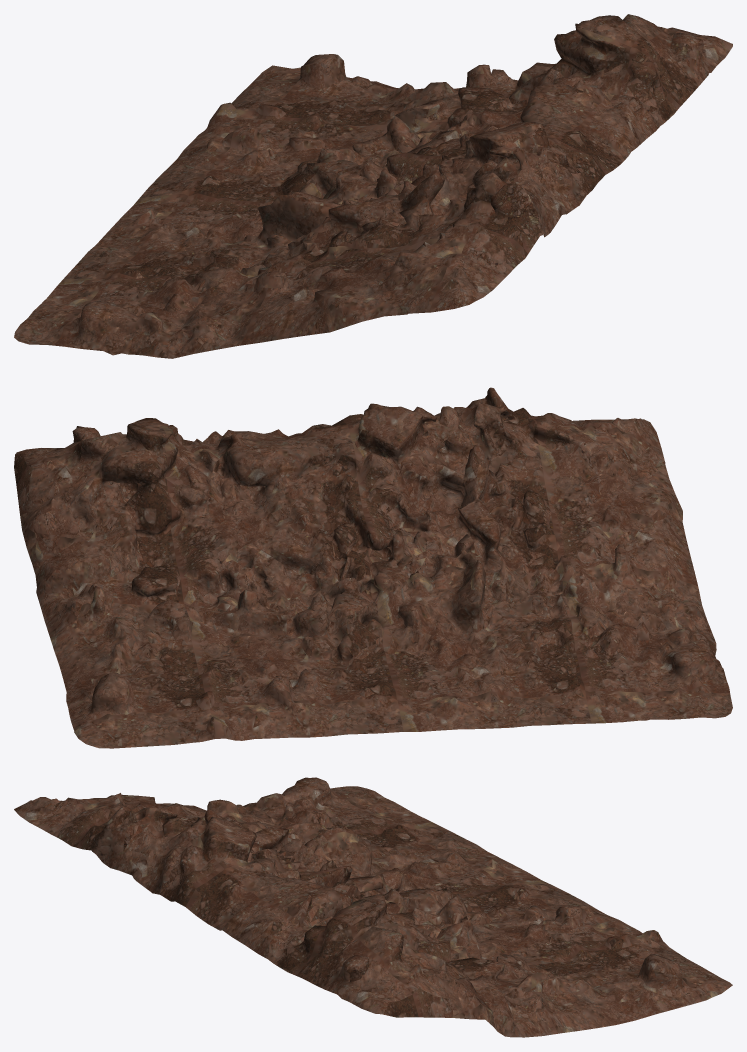
The model's file is Terrain.gltf.
The picture shows the model from 3 angles, top to bottom: view 1: azimuth 30°, elevation 25°; view 2: azimuth 150°, elevation 25°; view 3: azimuth 270°, elevation 25°; orthographic projection. The views are drawn at different scales.
Parts seen in each view (by area): view 1: Terrain.001; view 2: Terrain.001; view 3: Terrain.001.
Boxes of the visible parts, left/top/right/bottom form: Terrain.001: left=14, top=14, right=732, bottom=358; Terrain.001: left=14, top=387, right=732, bottom=748; Terrain.001: left=14, top=777, right=732, bottom=1037.
Bounding box in the file's own units: 33.98 × 7.28 × 31.71.
Materials: 1 (1 with a texture image).
